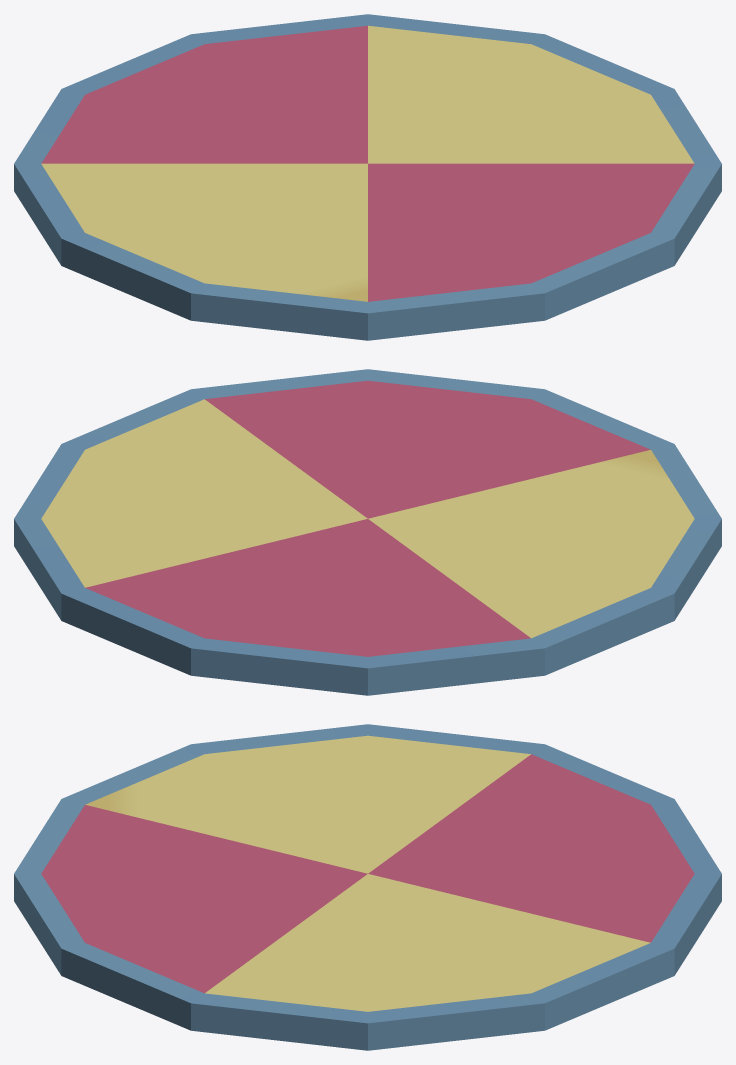
File: PisoGiratorio.fbx
3 renders of one model, top to bottom at view 1: azimuth 30°, elevation 25°; view 2: azimuth 150°, elevation 25°; view 3: azimuth 270°, elevation 25°, orthographic.
Visible parts, largest first — view 1: pCylinder2; view 2: pCylinder2; view 3: pCylinder2.
Boxes of the visible parts, bbox=[...] form: pCylinder2: bbox=[14, 14, 721, 340]; pCylinder2: bbox=[14, 369, 721, 695]; pCylinder2: bbox=[14, 724, 721, 1050].
Size of the model in its own units: 10.75 by 0.4589 by 10.75.
